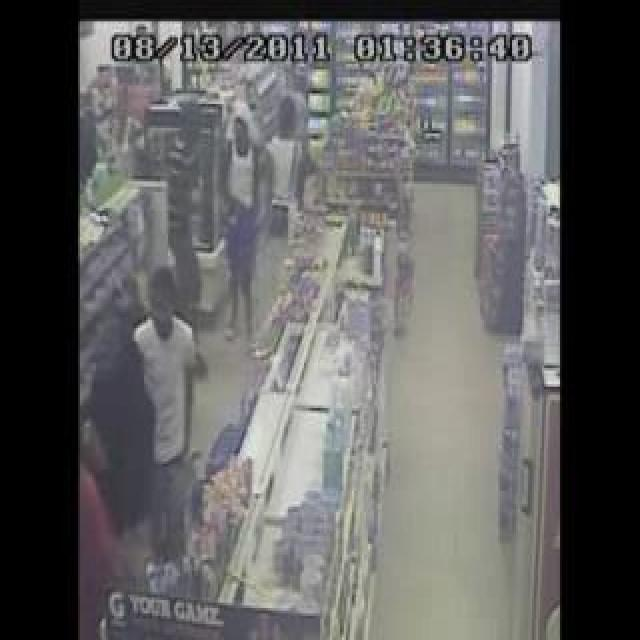thief: (99, 276, 195, 440), (221, 91, 311, 225), (97, 54, 133, 136)
